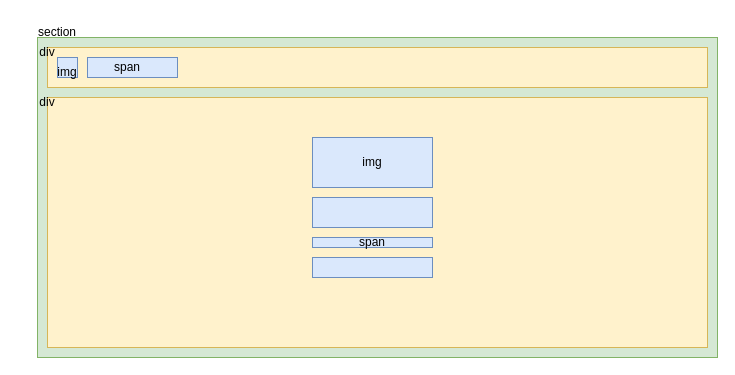
Some shapes in this 735 by 375 pixel diagram are drawn without their labels. The shapes that lost their labels are listed below. From the top down, each one's box as (x1, y1, x2, y2) in pixels, then its label:
(312, 196, 432, 228): h1
(312, 256, 432, 278): input
